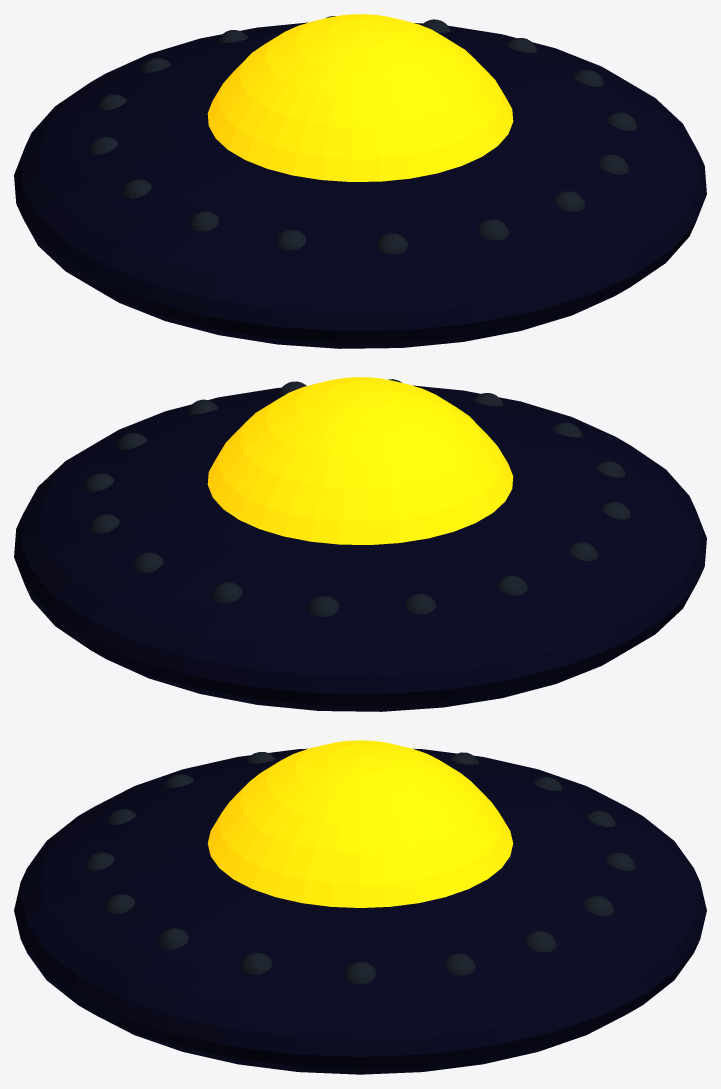
File: spaceShip.gltf
3 renders of one model, top to bottom at view 1: azimuth 30°, elevation 25°; view 2: azimuth 150°, elevation 25°; view 3: azimuth 270°, elevation 25°, orthographic.
Parts seen in each view (by area): view 1: Object_4; view 2: Object_4; view 3: Object_4.
Boxes of the visible parts, bbox=[...] form: Object_4: bbox=[14, 14, 706, 348]; Object_4: bbox=[14, 377, 706, 711]; Object_4: bbox=[14, 740, 706, 1074].
Size of the model in its own units: 22.28 by 8.81 by 22.28.
